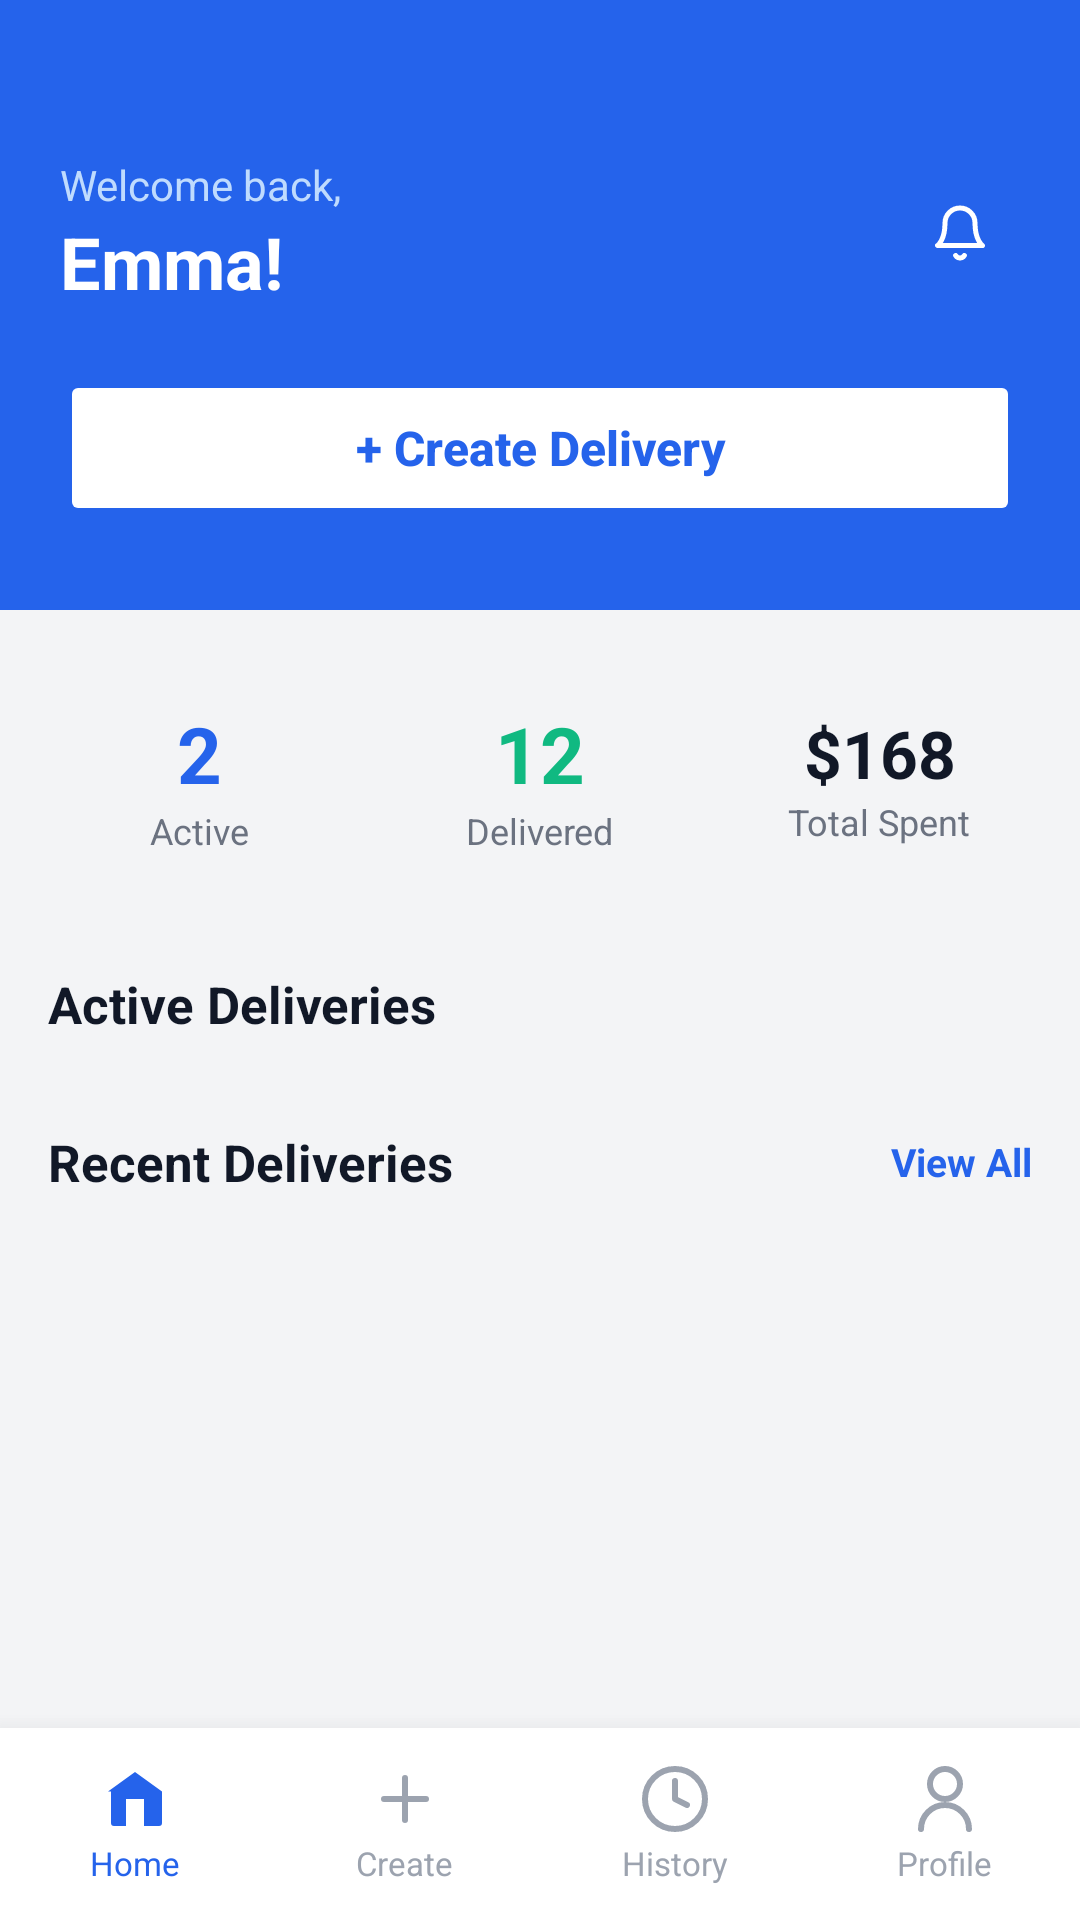

Icon click points for this 1080 × 1920 phone screenshot, format (x,y):
Notifications: (960,233)
